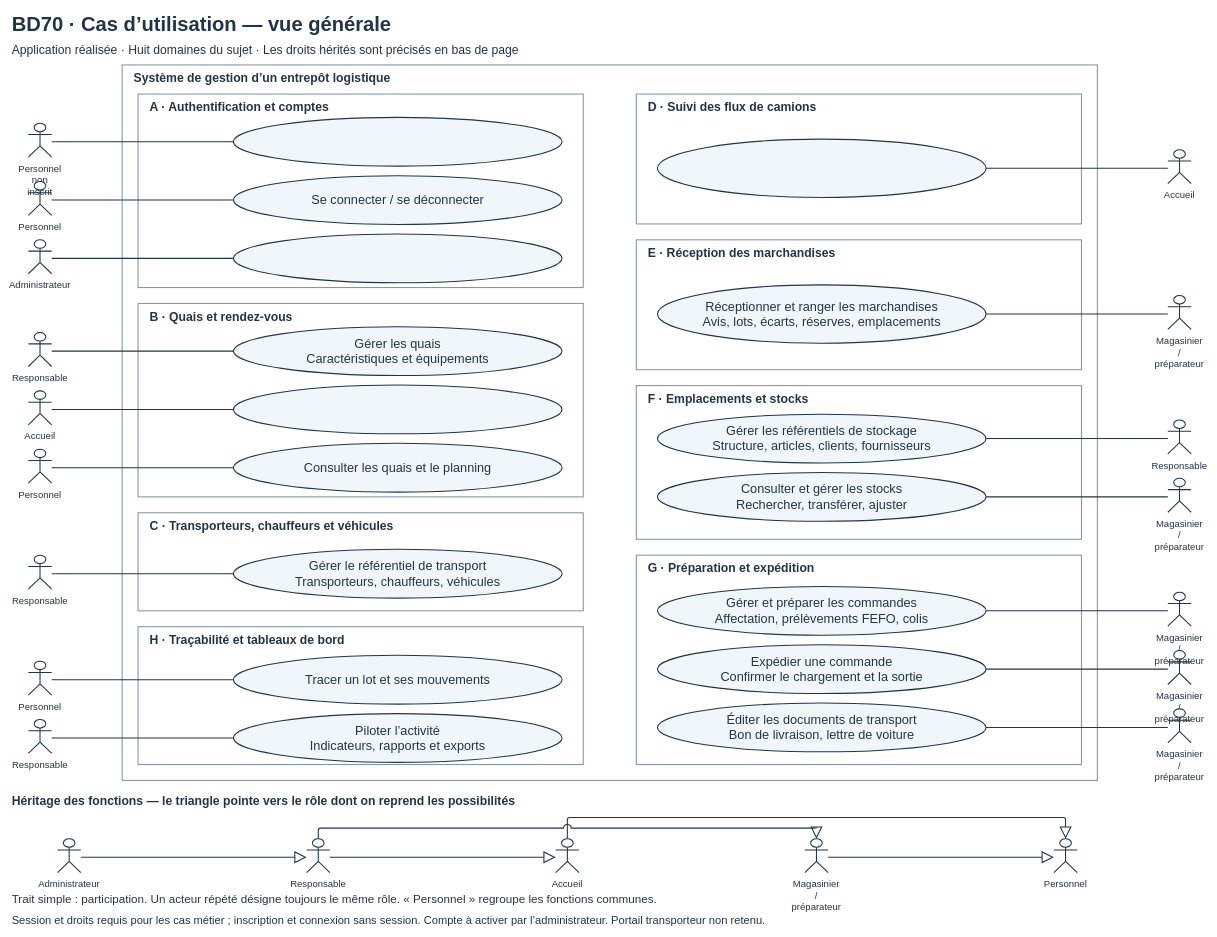
The diagram is 1217 pixels wide and 937 high, and some of its shapes have lost their labels. The shapes that lost their labels are listed below. From the top down, each one's centre as x and y in pixels, then its label:
At pixel 397 141: "S’inscrire Demander un compte".
At pixel 821 168: "Suivre le passage d’un camion De l’arrivée au départ ; opérations à quai".
At pixel 397 258: "Administrer les comptes et les rôles Activer, désactiver, attribuer les droits".
At pixel 397 409: "Gérer les rendez-vous Créer, déplacer, annuler ; indisponibilités".
